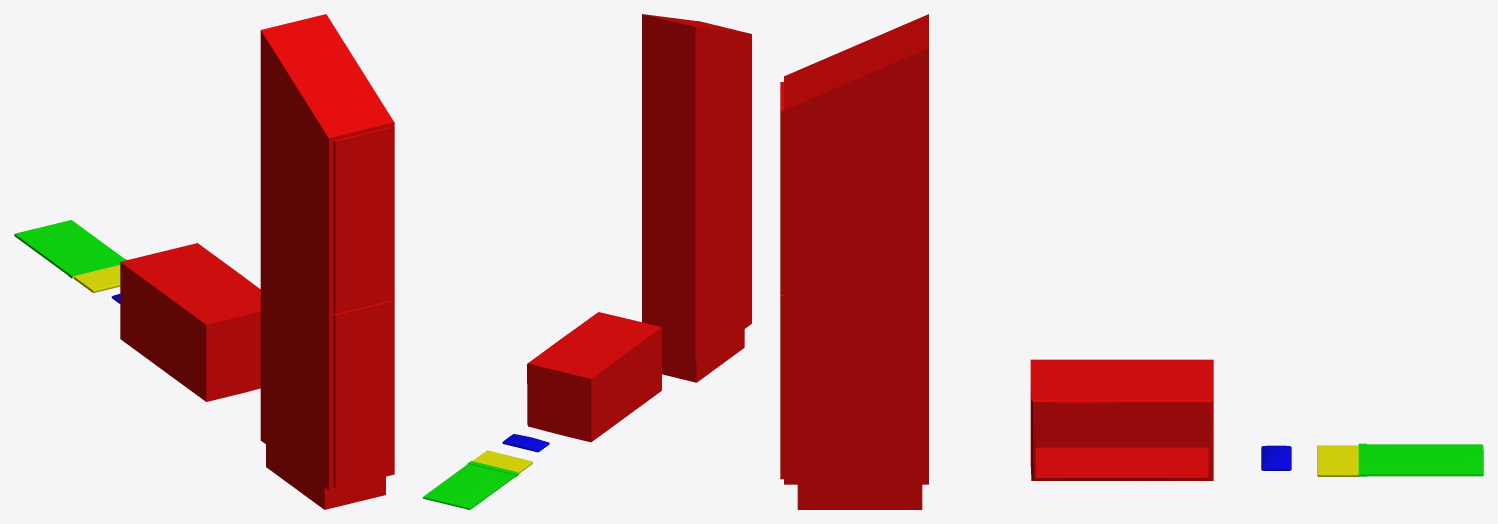
The model's file is Atlas_03_SM_ID.fbx.
The picture shows the model from 3 angles, left to right: view 1: azimuth 30°, elevation 25°; view 2: azimuth 150°, elevation 25°; view 3: azimuth 270°, elevation 25°; orthographic projection. The views are drawn at different scales.
Parts seen in each view (by area): view 1: pCube3, pasted__bed_shell, Top2, SmallPannel_Mocup4, SmallPannel4, pasted__bed_blanket, LockerBase2, pasted__bed_mattress; view 2: pCube3, pasted__bed_shell, Top2, pasted__bed_blanket, LockerBase2, pasted__bed_mattress, pasted__bed_pillow; view 3: pCube3, pasted__bed_shell, Top2, pasted__bed_blanket, LockerBase2, pasted__bed_mattress, SmallPannel_Mocup4, pasted__bed_pillow.
Part boxes in pixels (x1,y1,x2,y2): pCube3: (260, 88, 394, 490); pasted__bed_shell: (120, 243, 260, 401); Top2: (260, 14, 393, 138); SmallPannel_Mocup4: (333, 127, 391, 313); SmallPannel4: (333, 301, 391, 487); pasted__bed_blanket: (14, 220, 126, 278); LockerBase2: (266, 444, 385, 509); pasted__bed_mattress: (73, 265, 120, 292); pCube3: (642, 21, 751, 364); pasted__bed_shell: (527, 312, 661, 442); Top2: (642, 14, 750, 74); pasted__bed_blanket: (423, 461, 518, 509); LockerBase2: (662, 329, 744, 382); pasted__bed_mattress: (472, 450, 532, 473); pasted__bed_pillow: (502, 434, 549, 452); pCube3: (784, 76, 928, 484); pasted__bed_shell: (1030, 359, 1213, 480); Top2: (784, 14, 928, 110); pasted__bed_blanket: (1358, 443, 1483, 476); LockerBase2: (797, 484, 922, 509); pasted__bed_mattress: (1317, 445, 1358, 476); SmallPannel_Mocup4: (780, 82, 783, 294); pasted__bed_pillow: (1261, 445, 1291, 470).
Bounding box in the file's own units: 140 × 739 × 1017.
